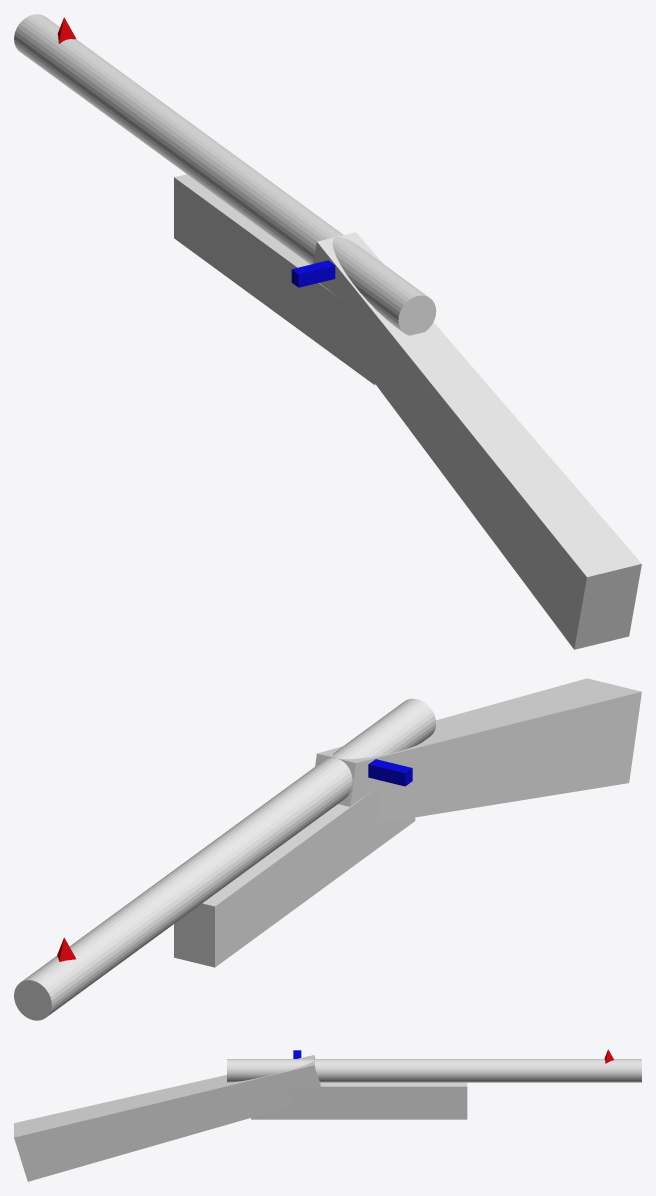
The model's file is rifle_prototype.glb.
3 views of the same model, one above another, from view 1: azimuth 30°, elevation 25°; view 2: azimuth 150°, elevation 25°; view 3: azimuth 270°, elevation 25° (orthographic). The views are drawn at different scales.
Parts seen in each view (by area): view 1: Cube; view 2: Cube; view 3: Cube.
Boxes of the visible parts, x1=… form: Cube: x1=14, y1=14, x2=641, y2=649; Cube: x1=14, y1=678, x2=641, y2=1020; Cube: x1=14, y1=1049, x2=641, y2=1181.
Bounding box in the file's own units: 0.1167 × 0.3078 × 1.39.
